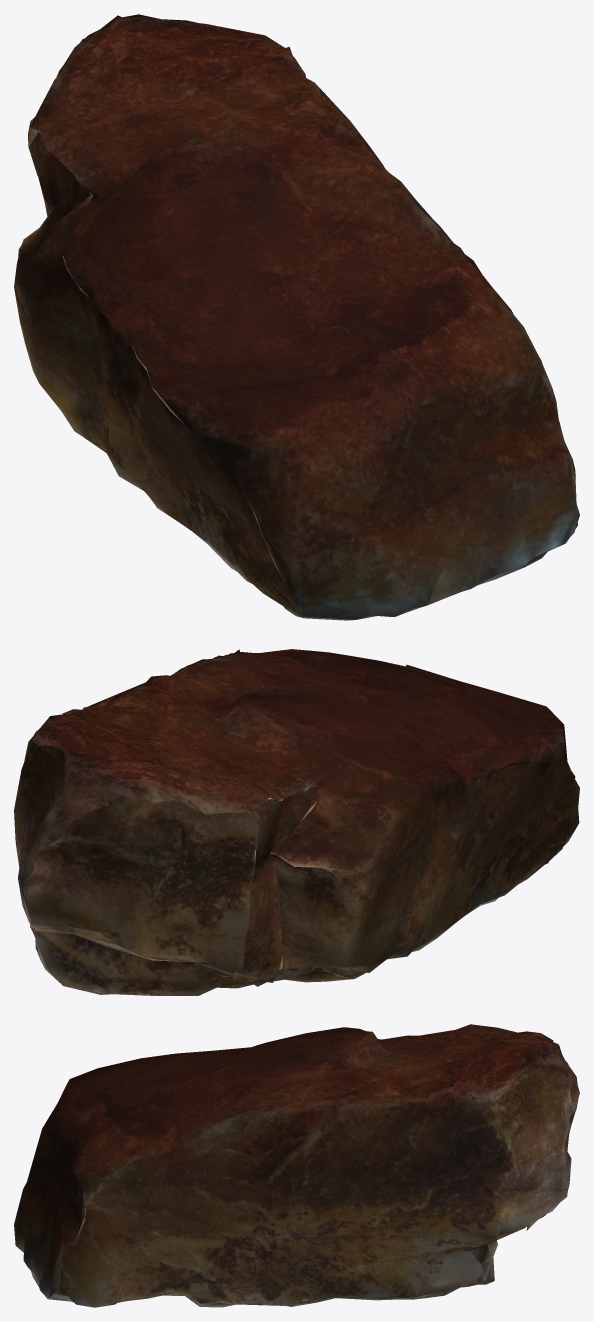
File: rock_a.glb
3 renders of one model, top to bottom at view 1: azimuth 30°, elevation 25°; view 2: azimuth 150°, elevation 25°; view 3: azimuth 270°, elevation 25°, orthographic. The views are drawn at different scales.
Visible parts, largest first — view 1: rock_07; view 2: rock_07; view 3: rock_07.
Boxes of the visible parts, left/top/right/bottom form: rock_07: left=14, top=14, right=579, bottom=620; rock_07: left=14, top=649, right=579, bottom=995; rock_07: left=14, top=1024, right=579, bottom=1307.
Size of the model in its own units: 0.5297 by 0.446 by 1.
1 material, 1 textured.
